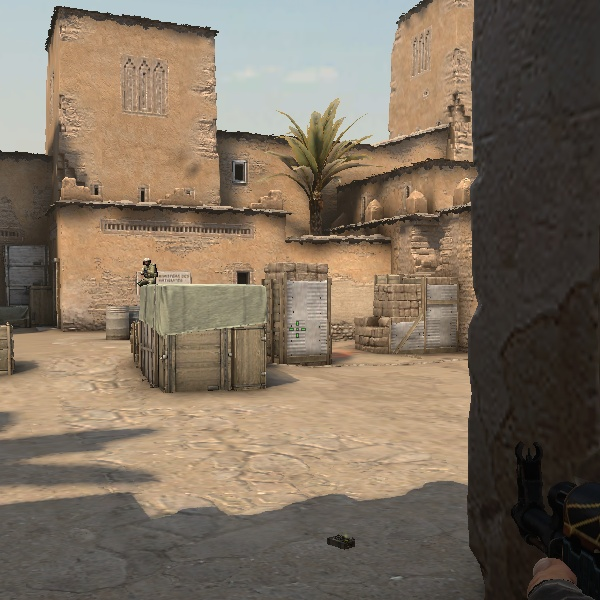ct_body: (141, 258, 158, 285)
ct_head: (142, 258, 152, 267)
